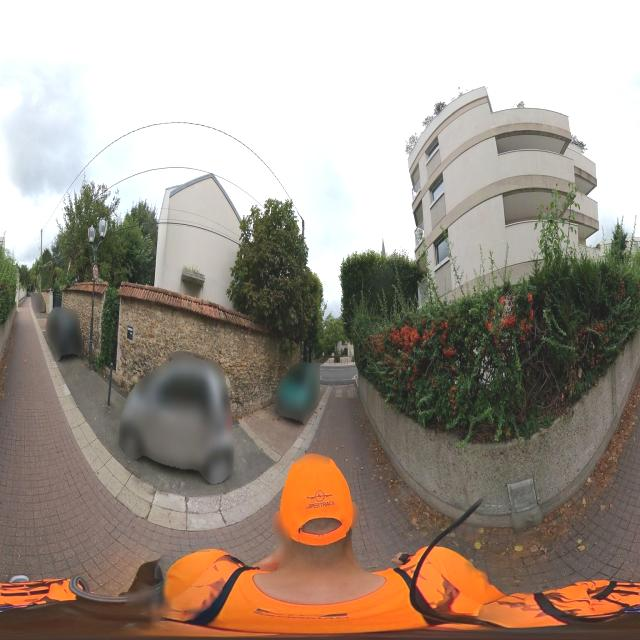car: (117, 350, 235, 486)
